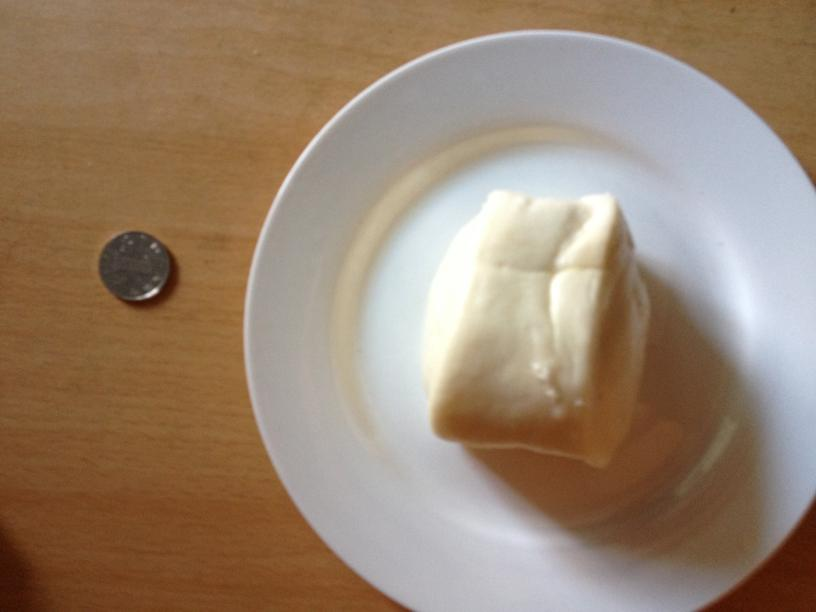bun: (420, 183, 651, 468)
coin: (95, 233, 171, 303)
